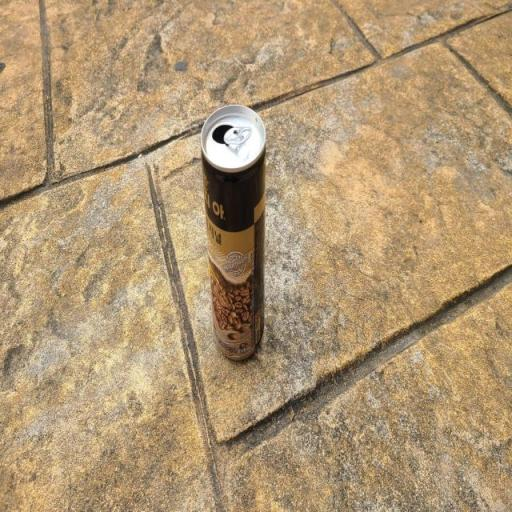metal: (188, 93, 276, 368)
